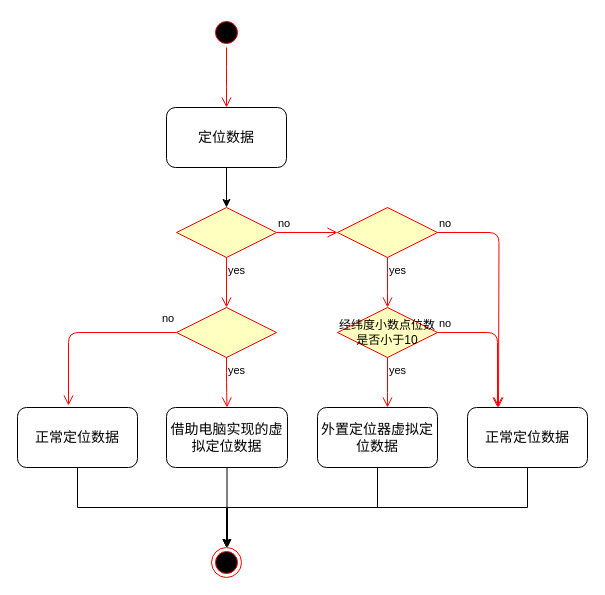
The diagram is 605 pixels wide and 595 high, and some of its shapes have lost their labels. The shapes that lost their labels are listed below. From the top down, each one's box as (x1, y1, x2, y2) in pixels, then its label:
(176, 206, 276, 258): 海拔是否为0
(336, 206, 438, 258): 海拔小数点位数 是否小于10
(176, 306, 276, 358): 海拔精度是否 为-1
